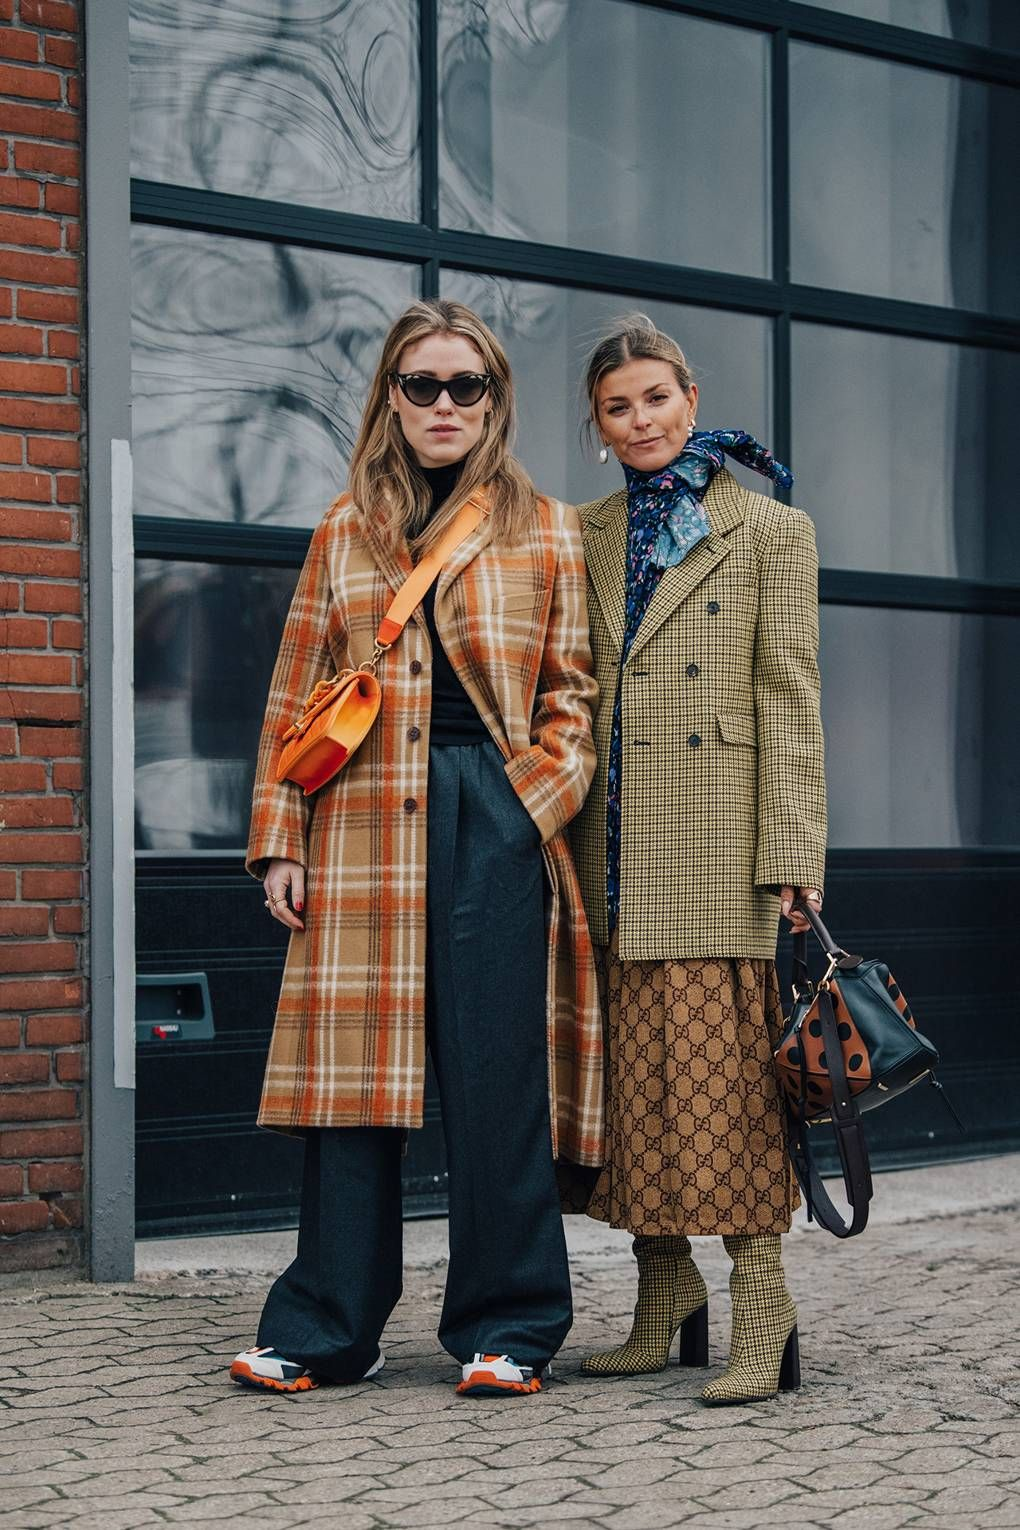Person: (543, 303, 948, 1415), (223, 293, 608, 1425)
